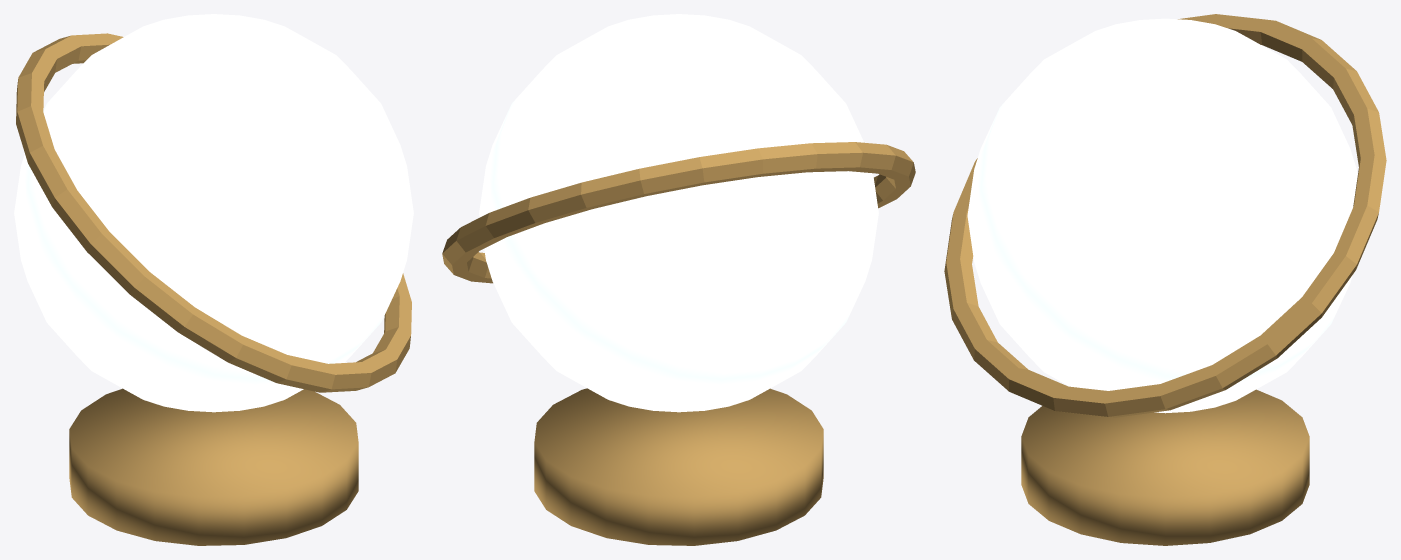
The model's file is relic-volatilePearl.glb.
3 views of the same model, side by side, from view 1: azimuth 30°, elevation 25°; view 2: azimuth 150°, elevation 25°; view 3: azimuth 270°, elevation 25° (orthographic).
Visible parts, largest first — view 1: relic-volatilePearl / Relic | mother of pearl, relic-volatilePearl / Brass | machined champagne; view 2: relic-volatilePearl / Relic | mother of pearl, relic-volatilePearl / Brass | machined champagne; view 3: relic-volatilePearl / Relic | mother of pearl, relic-volatilePearl / Brass | machined champagne.
Part boxes in pixels (x1,y1,x2,y2): relic-volatilePearl / Relic | mother of pearl: (14,14,413,412); relic-volatilePearl / Brass | machined champagne: (16,33,411,545); relic-volatilePearl / Relic | mother of pearl: (479,14,878,412); relic-volatilePearl / Brass | machined champagne: (442,142,915,545); relic-volatilePearl / Relic | mother of pearl: (967,18,1357,413); relic-volatilePearl / Brass | machined champagne: (944,14,1386,545).
Size of the model in its own units: 1.43 by 1.65 by 1.47.
